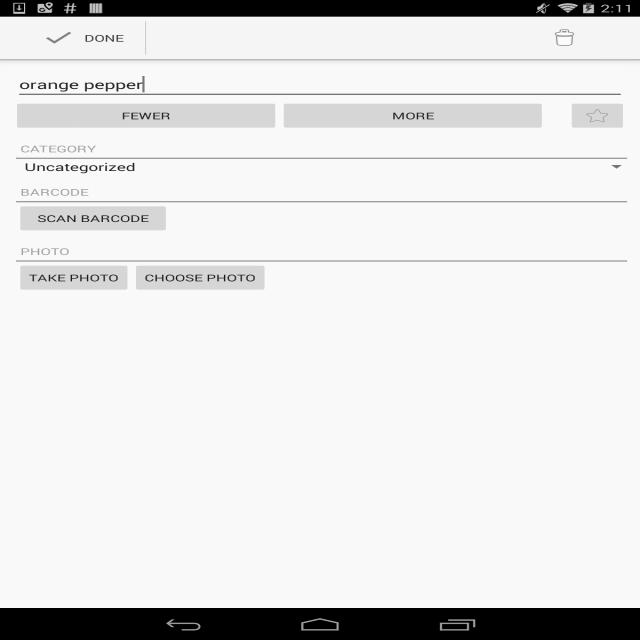Button: (13, 100, 279, 132), (280, 100, 546, 132), (16, 202, 170, 235), (132, 262, 269, 294), (16, 262, 132, 294)
EditText: (15, 69, 625, 100)
ImageButton: (568, 100, 627, 132), (548, 17, 582, 59)
Spinner: (16, 159, 627, 175)
TextView: (16, 142, 627, 159), (16, 245, 627, 262), (16, 186, 627, 202), (16, 160, 610, 174), (26, 27, 145, 49)
